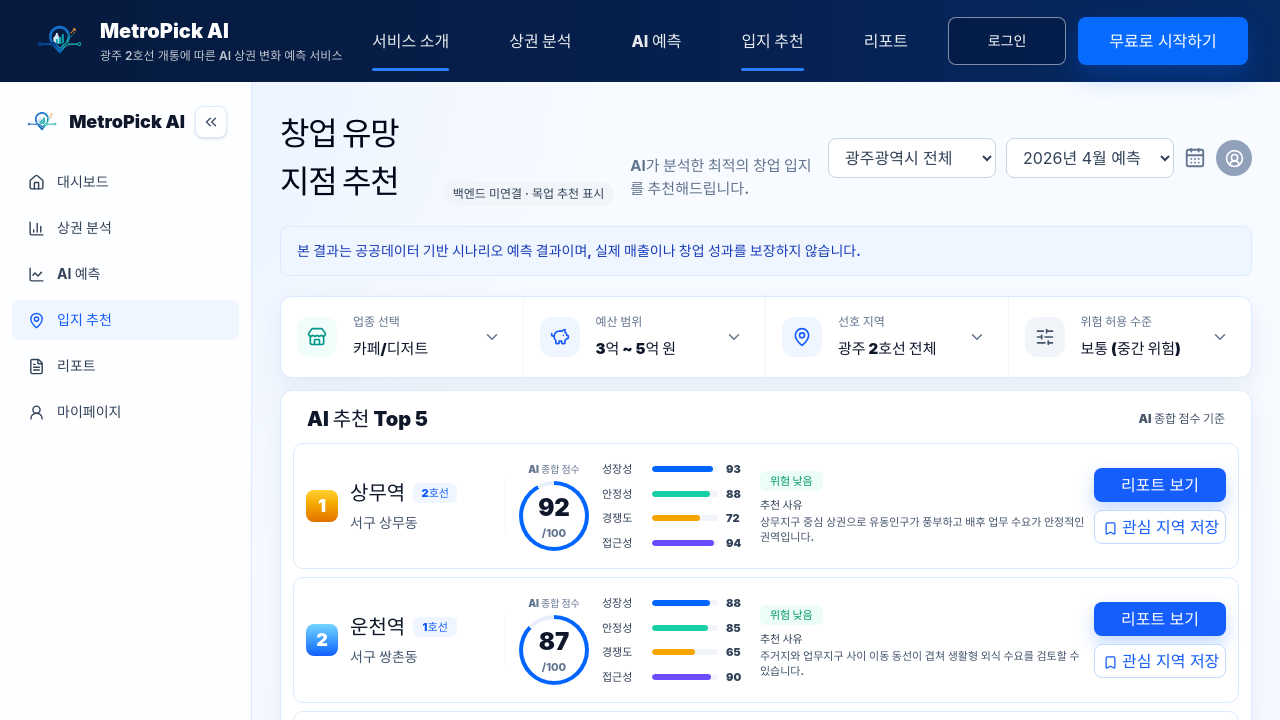
Test case: RecommendationPage › falls back to localStorage when backend save fails
The width and height of the screenshot is (1280, 720).
Click the button "관심 지역 저장" in the row of "94": (1160, 527) [1094,510,1226,544]
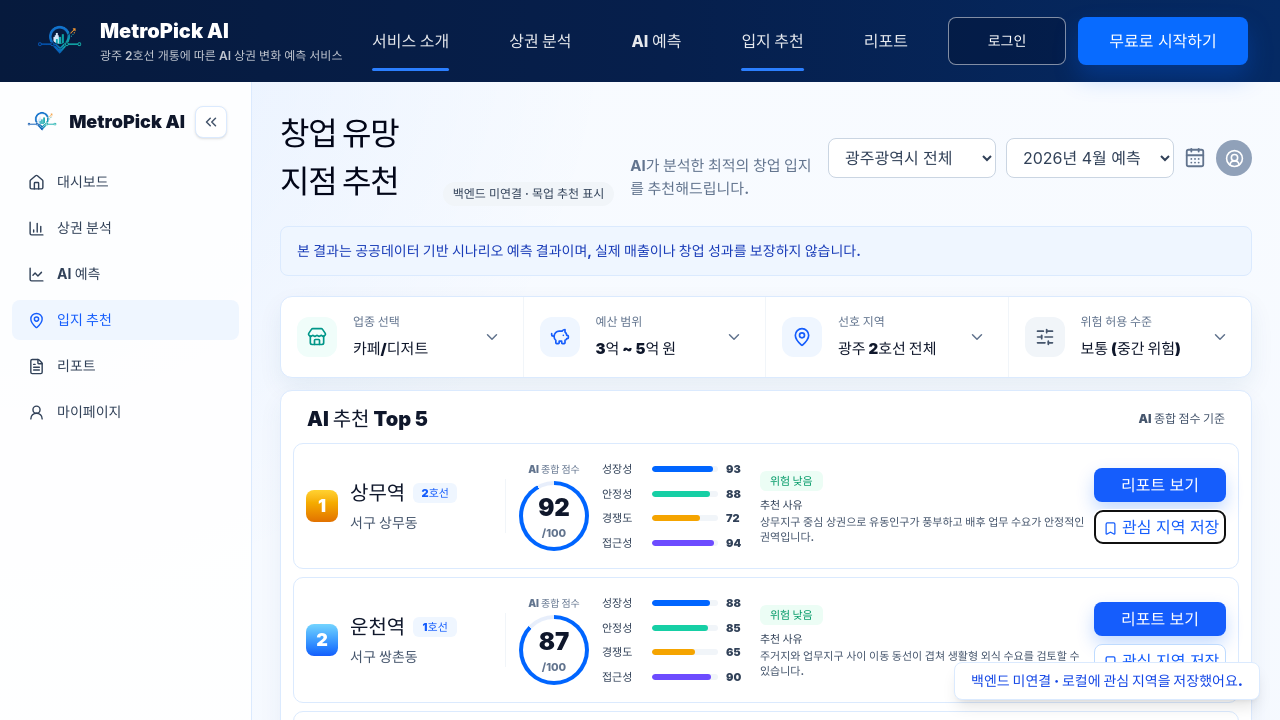
Expected: the text "백엔드 미연결 · 로컬에 관심 지역을 저장했어요." is shown, [954,662,1260,700]
